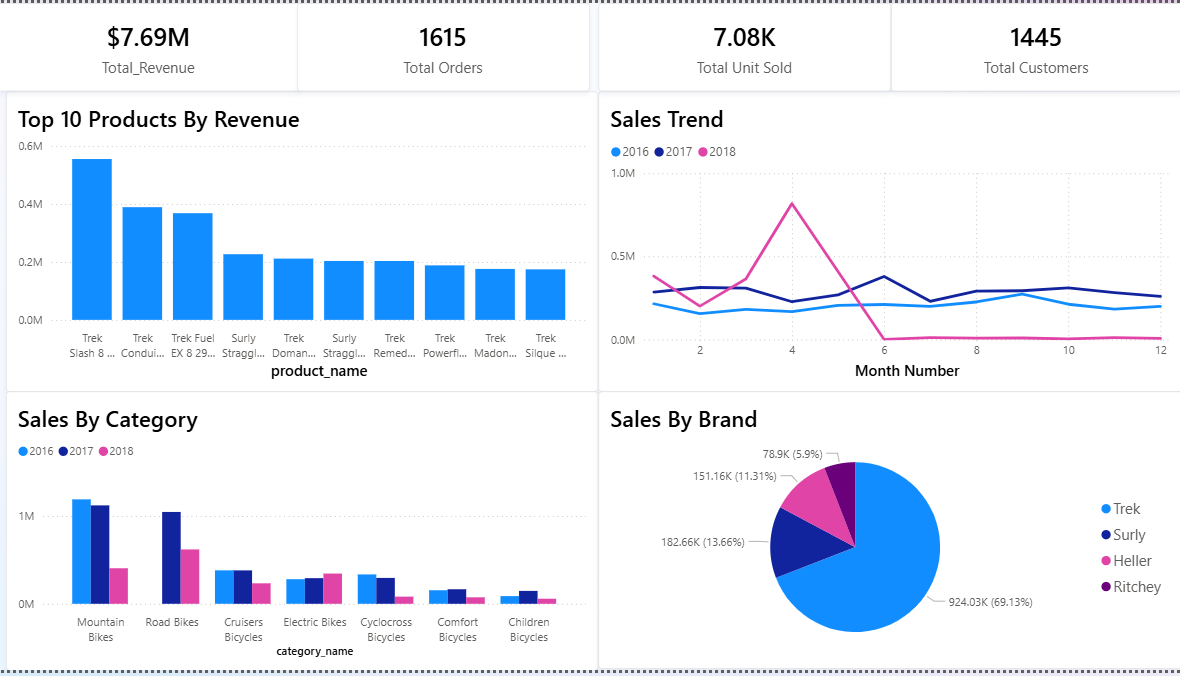

The dashboard page shown, as its layout file describes it:
{"tool":"powerbi","page":{"name":"Page 1","canvas":[1280,720],"ordinal":0},"visuals":[{"type":"clusteredColumnChart","title":"Top 10 Products By Revenue","fields":{"Category":["Top 10 Products.product_name"],"Y":["Sum(Top 10 Products.Total_Revenue)"]},"box":[9.7,95.5,639.6,323.8],"z":0},{"type":"clusteredColumnChart","title":"Sales By Category","fields":{"Category":["Sales by category each year.category_name"],"Y":["Sum(Sales by category each year.total_sales_amount)"],"Series":["Sales by category each year.year"]},"box":[9.7,419.4,639.6,301.2],"z":1000},{"type":"lineChart","title":"Sales Trend","fields":{"Y":["Sum(Sales trend (Monthly & Quarterly.Monthly_Revenue)"],"Category":["Sales trend (Monthly & Quarterly.Sales_Month"],"Series":["Sales trend (Monthly & Quarterly.Sales_Year"]},"box":[649.6,95.4,629.9,324],"z":2000},{"type":"pieChart","title":"Sales By Brand","fields":{"Category":["Brand & Category Performance.brand_name","Brand & Category Performance.category_name"],"Y":["Sum(Brand & Category Performance.Brand_Category_Revenue)"]},"box":[649,419.9,629.9,299],"z":3000},{"type":"card","fields":{"Values":["Sum(Total Revenue.Total_Revenue)"]},"box":[0,0,327.1,95.5],"z":3001},{"type":"card","fields":{"Values":["Sum(Total Orders.Total_orders)"]},"box":[323.8,0,315.7,95.5],"z":3002},{"type":"card","fields":{"Values":["Sum(Total Units.Total_Unit_Sold)"]},"box":[649.3,0,315.7,95.5],"z":3003},{"type":"card","fields":{"Values":["Sum(Total Customers.Total_Customers)"]},"box":[965.1,0,314.1,95.5],"z":3004}]}

Visuals, with their boxes in screenshot pixels (x1, y1, x2, y2), scaled from the page's 1280x720 canvas onto the 1180x676 screenshot:
"Top 10 Products By Revenue" clusteredColumnChart: region(9, 90, 599, 394)
"Sales By Category" clusteredColumnChart: region(9, 394, 599, 675)
"Sales Trend" lineChart: region(599, 90, 1179, 394)
"Sales By Brand" pieChart: region(598, 394, 1179, 675)
card - Sum(Total Revenue.Total_Revenue): region(0, 0, 302, 90)
card - Sum(Total Orders.Total_orders): region(299, 0, 590, 90)
card - Sum(Total Units.Total_Unit_Sold): region(599, 0, 890, 90)
card - Sum(Total Customers.Total_Customers): region(890, 0, 1179, 90)
